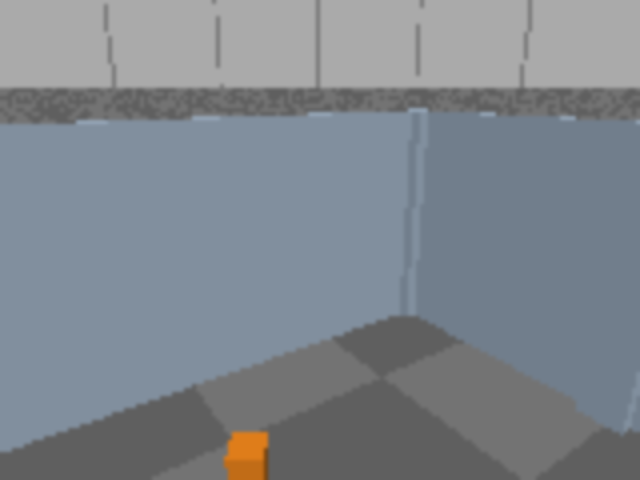puck: (225, 431, 269, 478)
